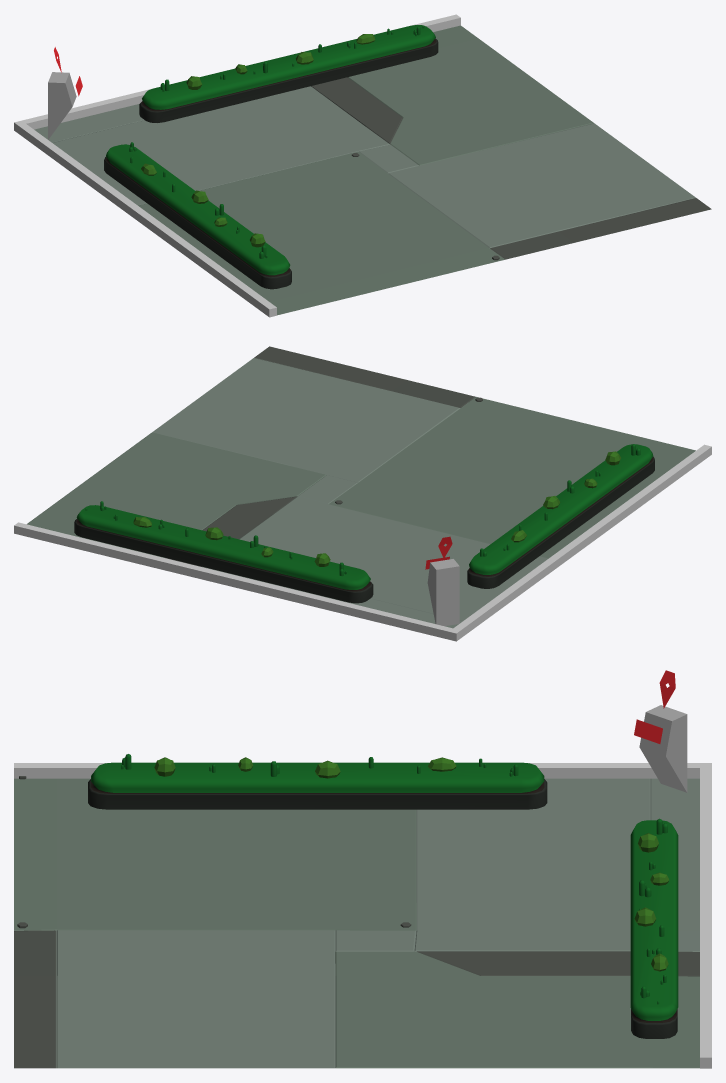
3 renders of one model, top to bottom at view 1: azimuth 30°, elevation 25°; view 2: azimuth 150°, elevation 25°; view 3: azimuth 270°, elevation 25°, orthographic. The views are drawn at different scales.
Parts seen in each view (by area): view 1: Scifi_Panel_04_Plaza014_group4.013_Scifi_Panel_04_Plaza014_group, TreePatch_Plaza014_group3.030_TreePatch_Plaza014_group3.018, TreePatch_Plaza014_group3.031_TreePatch_Plaza014_group3.019, Cube.1075_Cube.1199, panel.007_panel.011; view 2: Scifi_Panel_04_Plaza014_group4.013_Scifi_Panel_04_Plaza014_group, TreePatch_Plaza014_group3.030_TreePatch_Plaza014_group3.018, Cube.1075_Cube.1199, TreePatch_Plaza014_group3.031_TreePatch_Plaza014_group3.019, panel.007_panel.011; view 3: Scifi_Panel_04_Plaza014_group4.013_Scifi_Panel_04_Plaza014_group, TreePatch_Plaza014_group3.031_TreePatch_Plaza014_group3.019, TreePatch_Plaza014_group3.030_TreePatch_Plaza014_group3.018, Cube.1075_Cube.1199, panel.007_panel.011.
Part boxes in pixels (left/top/right/bottom): Scifi_Panel_04_Plaza014_group4.013_Scifi_Panel_04_Plaza014_group: left=34, top=25, right=711, bottom=315; TreePatch_Plaza014_group3.030_TreePatch_Plaza014_group3.018: left=139, top=25, right=438, bottom=122; TreePatch_Plaza014_group3.031_TreePatch_Plaza014_group3.019: left=104, top=144, right=291, bottom=289; Cube.1075_Cube.1199: left=14, top=14, right=460, bottom=317; panel.007_panel.011: left=48, top=47, right=82, bottom=139; Scifi_Panel_04_Plaza014_group4.013_Scifi_Panel_04_Plaza014_group: left=27, top=346, right=695, bottom=628; TreePatch_Plaza014_group3.030_TreePatch_Plaza014_group3.018: left=74, top=505, right=373, bottom=603; Cube.1075_Cube.1199: left=14, top=444, right=711, bottom=641; TreePatch_Plaza014_group3.031_TreePatch_Plaza014_group3.019: left=467, top=444, right=654, bottom=588; panel.007_panel.011: left=425, top=536, right=459, bottom=626; Scifi_Panel_04_Plaza014_group4.013_Scifi_Panel_04_Plaza014_group: left=14, top=776, right=699, bottom=1068; TreePatch_Plaza014_group3.031_TreePatch_Plaza014_group3.019: left=88, top=762, right=547, bottom=809; TreePatch_Plaza014_group3.030_TreePatch_Plaza014_group3.018: left=630, top=820, right=678, bottom=1038; Cube.1075_Cube.1199: left=14, top=763, right=711, bottom=1068; panel.007_panel.011: left=634, top=670, right=687, bottom=792.
Size of the model in its own units: 10 by 1.89 by 10.
